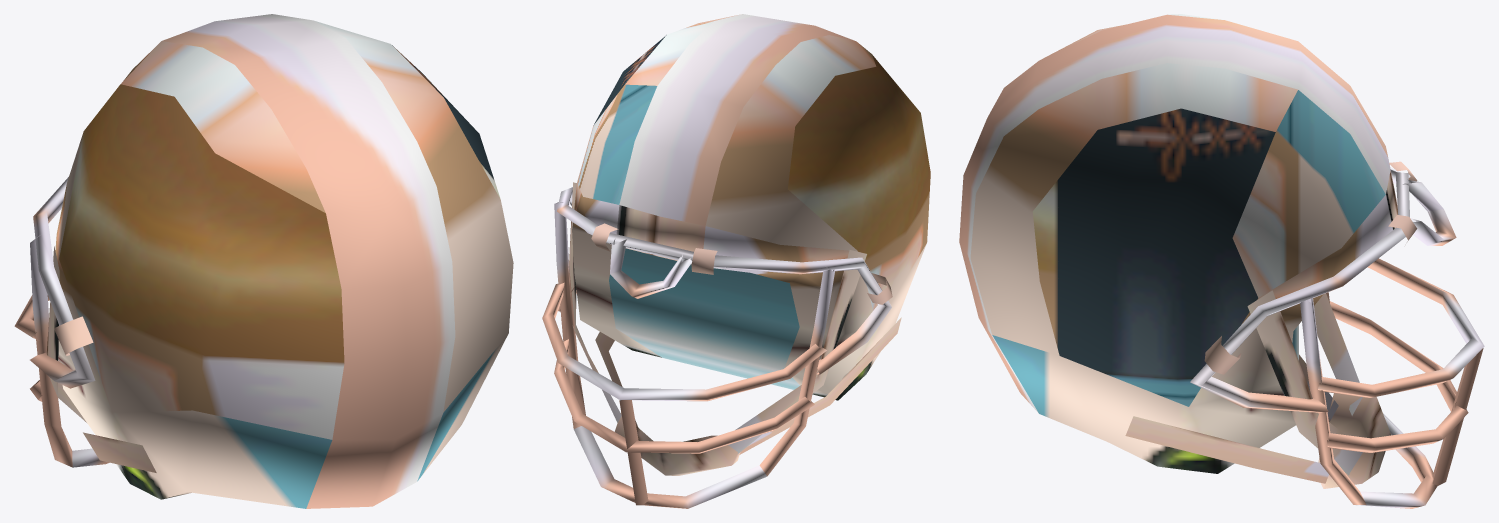
The model's file is view.ico.obj.
The picture shows the model from 3 angles, left to right: view 1: azimuth 30°, elevation 25°; view 2: azimuth 150°, elevation 25°; view 3: azimuth 270°, elevation 25°; orthographic projection. The views are drawn at different scales.
Size of the model in its own units: 2.62 by 3.14 by 3.3.
